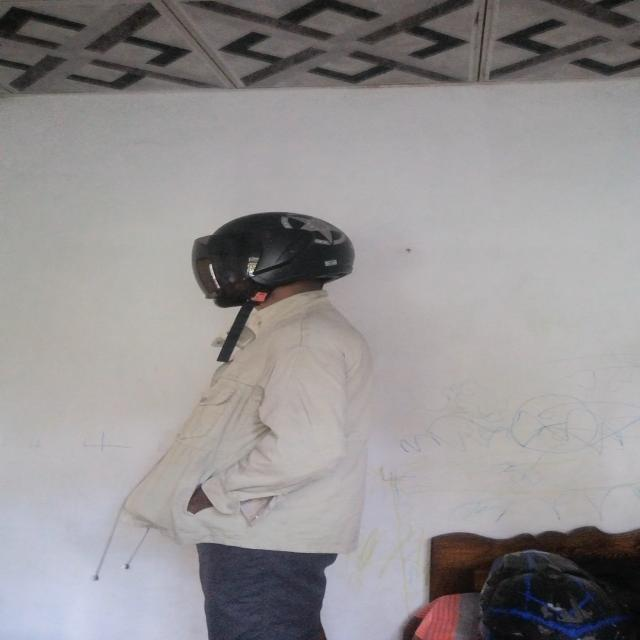Helmet_Wearer: (184, 210, 372, 311)
Jacket_Wearer: (147, 302, 400, 560)
Person: (137, 203, 410, 640)
